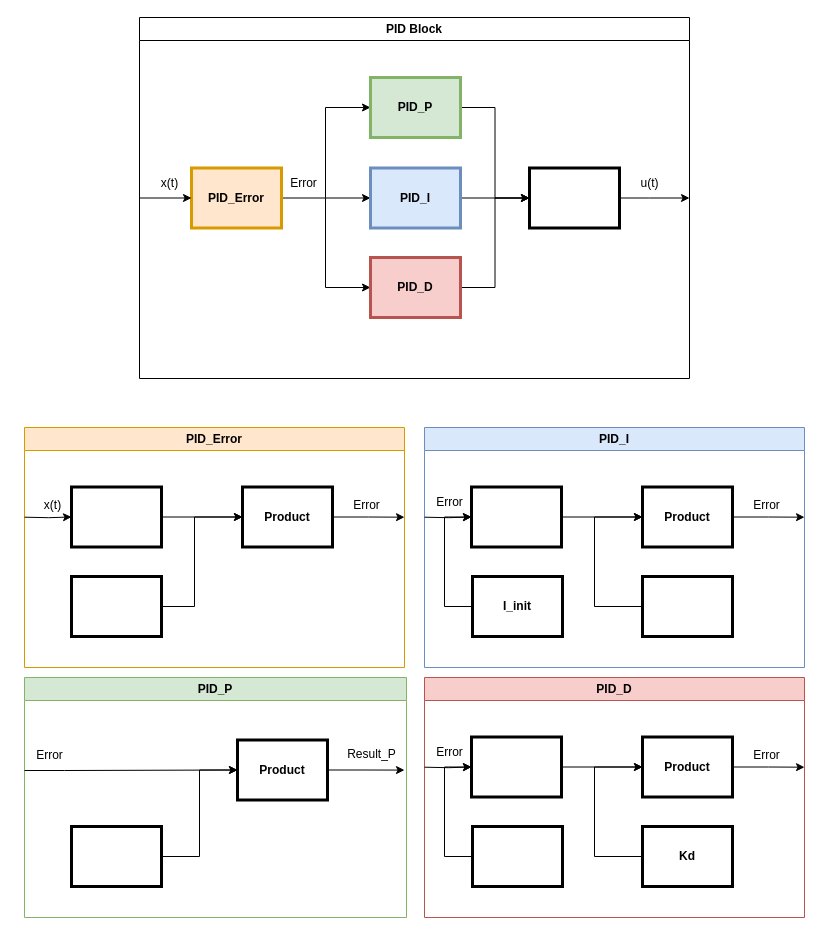
The diagram is 830 pixels wide and 935 high, and some of its shapes have lost their labels. The shapes that lost their labels are listed below. From the top down, each one's centre as x and y in pixels, then its label:
pixel 574 197: SUM
pixel 116 516: Negate
pixel 516 516: Integral
pixel 116 606: Setpoint
pixel 687 606: Ki
pixel 516 766: Derivator
pixel 116 856: Kp
pixel 517 856: D_init
